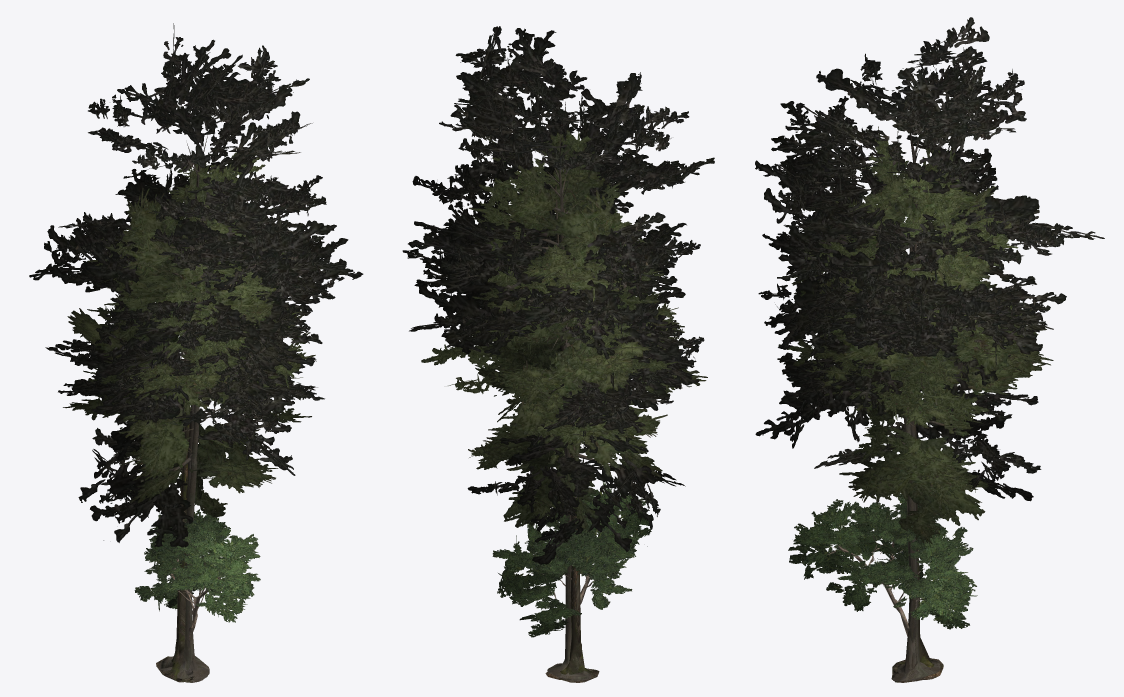
The model's file is trees.glb.
3 views of the same model, side by side, from view 1: azimuth 30°, elevation 25°; view 2: azimuth 150°, elevation 25°; view 3: azimuth 270°, elevation 25° (orthographic). The views are drawn at different scales.
Visible parts, largest first — view 1: pine_c_far, pine_c, fir_b_far, fir_b, broadleaf_small_far, fir_c_far, fir_c, broadleaf_small; view 2: pine_c_far, pine_c, fir_b_far, fir_b, broadleaf_small_far, fir_c_far, fir_c, broadleaf_small; view 3: pine_c_far, pine_c, fir_b_far, fir_b, broadleaf_small_far, fir_c, fir_c_far, broadleaf_small.
Part boxes in pixels (box(x1,y1,x2,y2)): pine_c_far: box(29, 23, 363, 681); pine_c: box(53, 37, 344, 682); fir_b_far: box(63, 153, 315, 681); fir_b: box(72, 164, 301, 682); broadleaf_small_far: box(134, 509, 260, 619); fir_c_far: box(83, 152, 311, 682); fir_c: box(94, 159, 310, 682); broadleaf_small: box(142, 514, 255, 640); pine_c_far: box(402, 26, 714, 680); pine_c: box(412, 36, 704, 680); fir_b_far: box(472, 144, 707, 682); fir_b: box(468, 164, 686, 682); broadleaf_small_far: box(492, 481, 651, 637); fir_c_far: box(421, 130, 679, 680); fir_c: box(433, 132, 669, 680); broadleaf_small: box(500, 487, 644, 634); pine_c_far: box(755, 17, 1104, 680); pine_c: box(758, 26, 1079, 681); fir_b_far: box(805, 145, 1053, 682); fir_b: box(816, 157, 1041, 682); broadleaf_small_far: box(788, 493, 977, 629); fir_c: box(793, 134, 1036, 681); fir_c_far: box(778, 126, 1020, 680); broadleaf_small: box(795, 501, 970, 636).
Bounding box in the file's own units: 8.04 × 17.94 × 8.83.
Materials: 8 (8 with a texture image).
